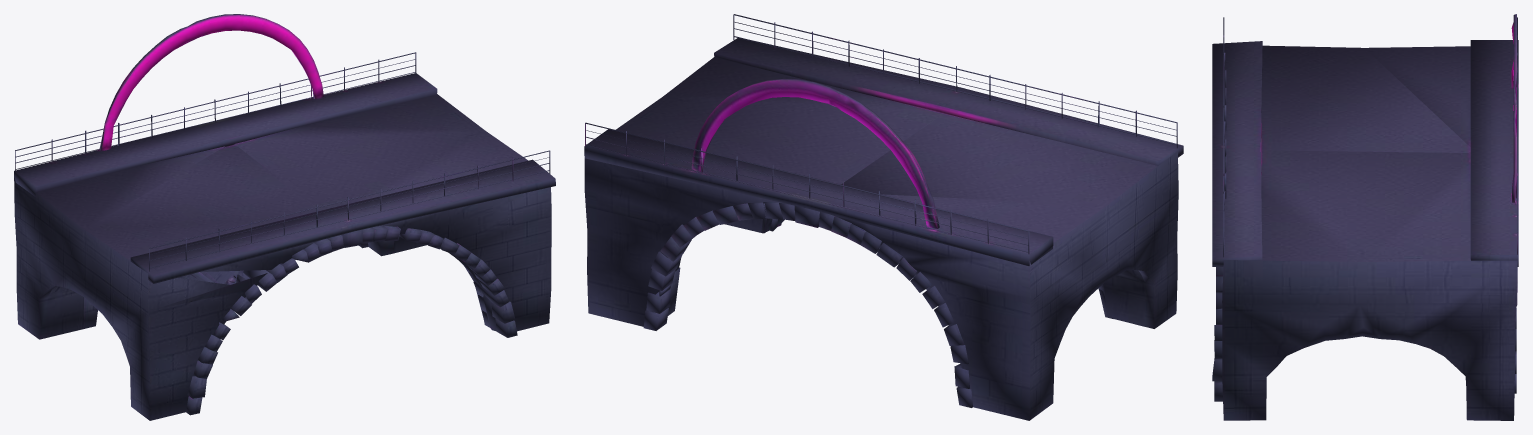
File: bridge.glb
3 renders of one model, left to right at view 1: azimuth 30°, elevation 25°; view 2: azimuth 150°, elevation 25°; view 3: azimuth 270°, elevation 25°, orthographic. The views are drawn at different scales.
Size of the model in its own units: 30 by 18.39 by 18.
1 material, 1 textured.
